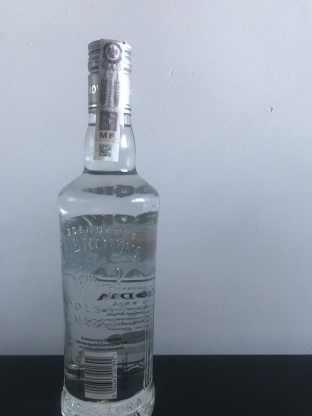nakretka: (85, 36, 134, 120)
